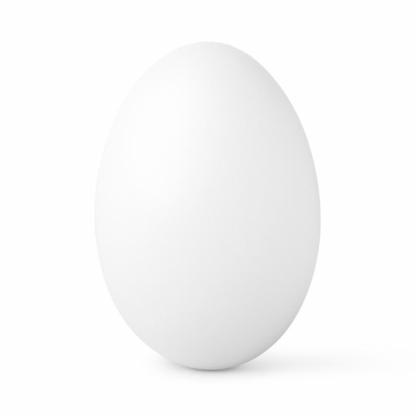egg: (87, 38, 332, 376)
